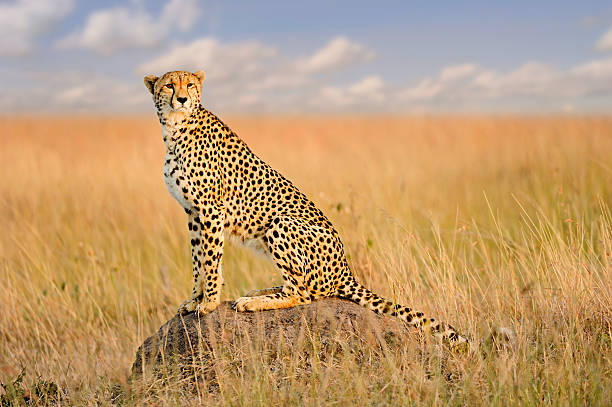cheetah: (138, 69, 213, 126)
